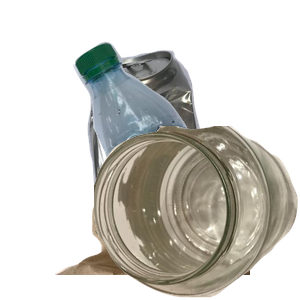glass: (94, 126, 300, 300)
metal: (85, 48, 300, 228)
plastic: (71, 39, 300, 219)
trash: (52, 120, 292, 300)
